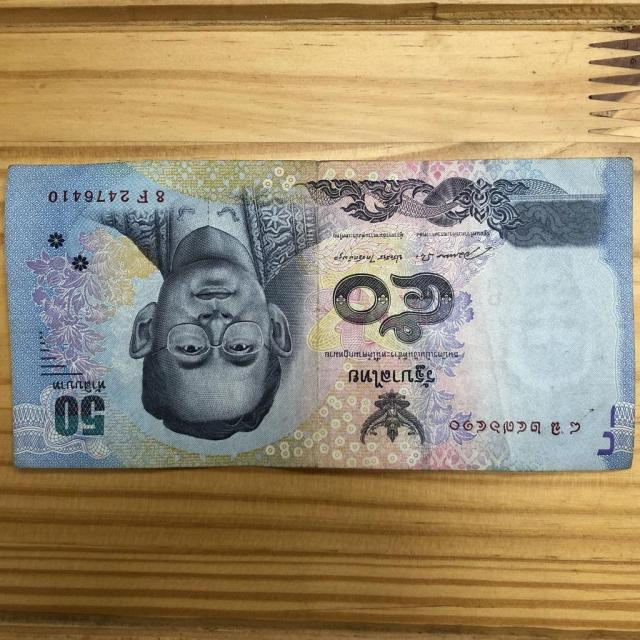THAI50: (5, 149, 635, 470)
